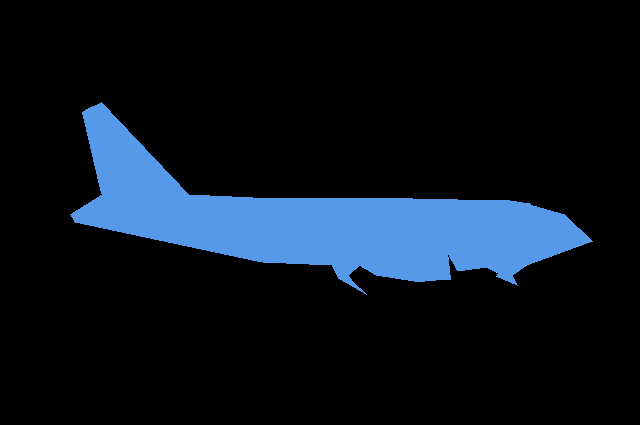Airplane: (70, 102, 592, 294)
